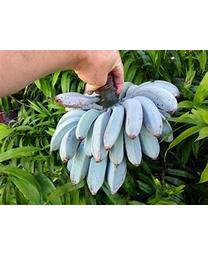banana: (49, 79, 178, 195)
